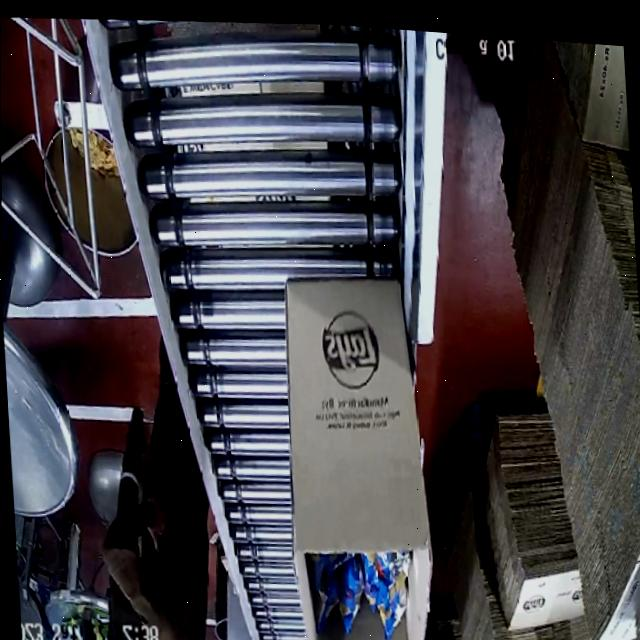PAPRIKA: (304, 543, 425, 640)
